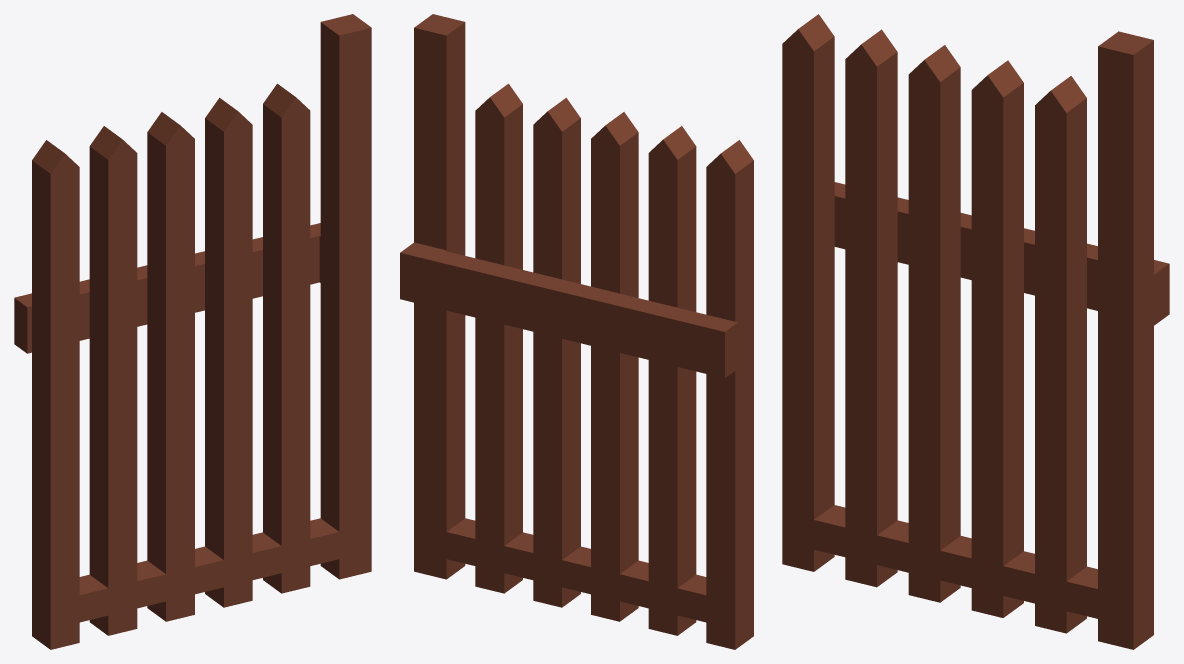
The model's file is Picket fence end Tall.fbx.
The picture shows the model from 3 angles, left to right: view 1: azimuth 30°, elevation 25°; view 2: azimuth 150°, elevation 25°; view 3: azimuth 330°, elevation 25°; orthographic projection. The views are drawn at different scales.
Visible parts, largest first — view 1: Picket fence end Tall; view 2: Picket fence end Tall; view 3: Picket fence end Tall.
Part boxes in pixels (x1,y1,x2,y2): Picket fence end Tall: (14, 14, 371, 649); Picket fence end Tall: (400, 14, 753, 649); Picket fence end Tall: (782, 14, 1169, 649).
Size of the model in its own units: 100 by 160 by 17.5.
